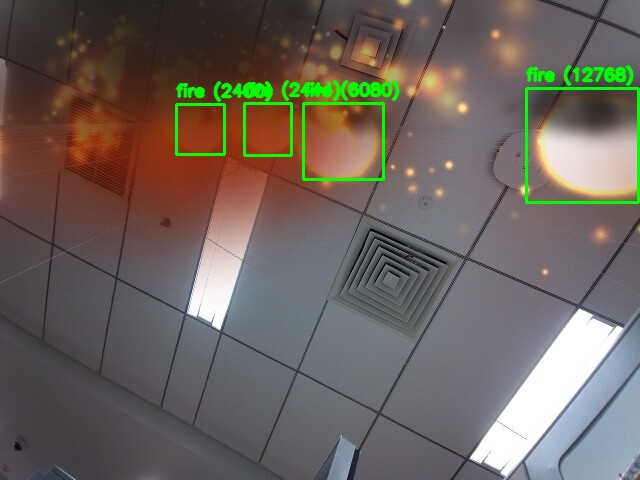fire: (526, 88, 638, 202), (303, 103, 383, 179), (244, 103, 291, 155), (176, 104, 224, 154)
